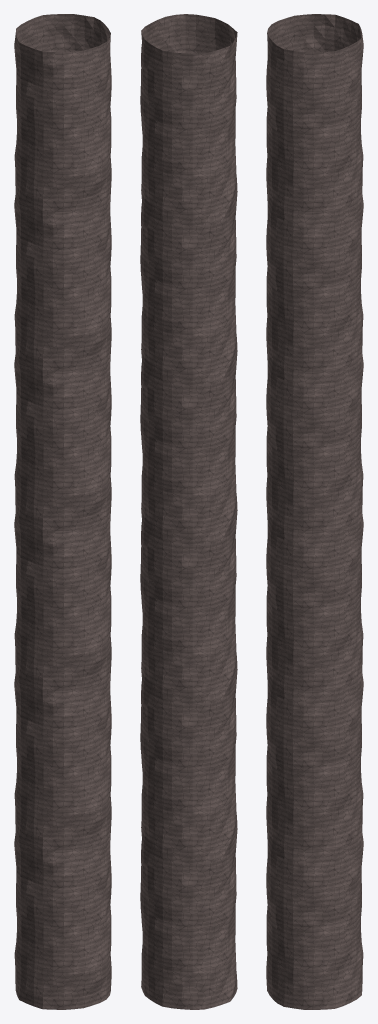
Rendered from Circle5Walls.obj.
3 views of the same model, side by side, from view 1: azimuth 90°, elevation 25°; view 2: azimuth 210°, elevation 25°; view 3: azimuth 270°, elevation 25° (orthographic).
Visible parts, largest first — view 1: Circle5Walls; view 2: Circle5Walls; view 3: Circle5Walls.
Part boxes in pixels (left/top/right/bottom): Circle5Walls: left=14, top=14, right=111, bottom=1009; Circle5Walls: left=140, top=14, right=237, bottom=1009; Circle5Walls: left=266, top=14, right=363, bottom=1009.
Size of the model in its own units: 35.78 by 390 by 36.03.
Materials: 1 (1 with a texture image).
